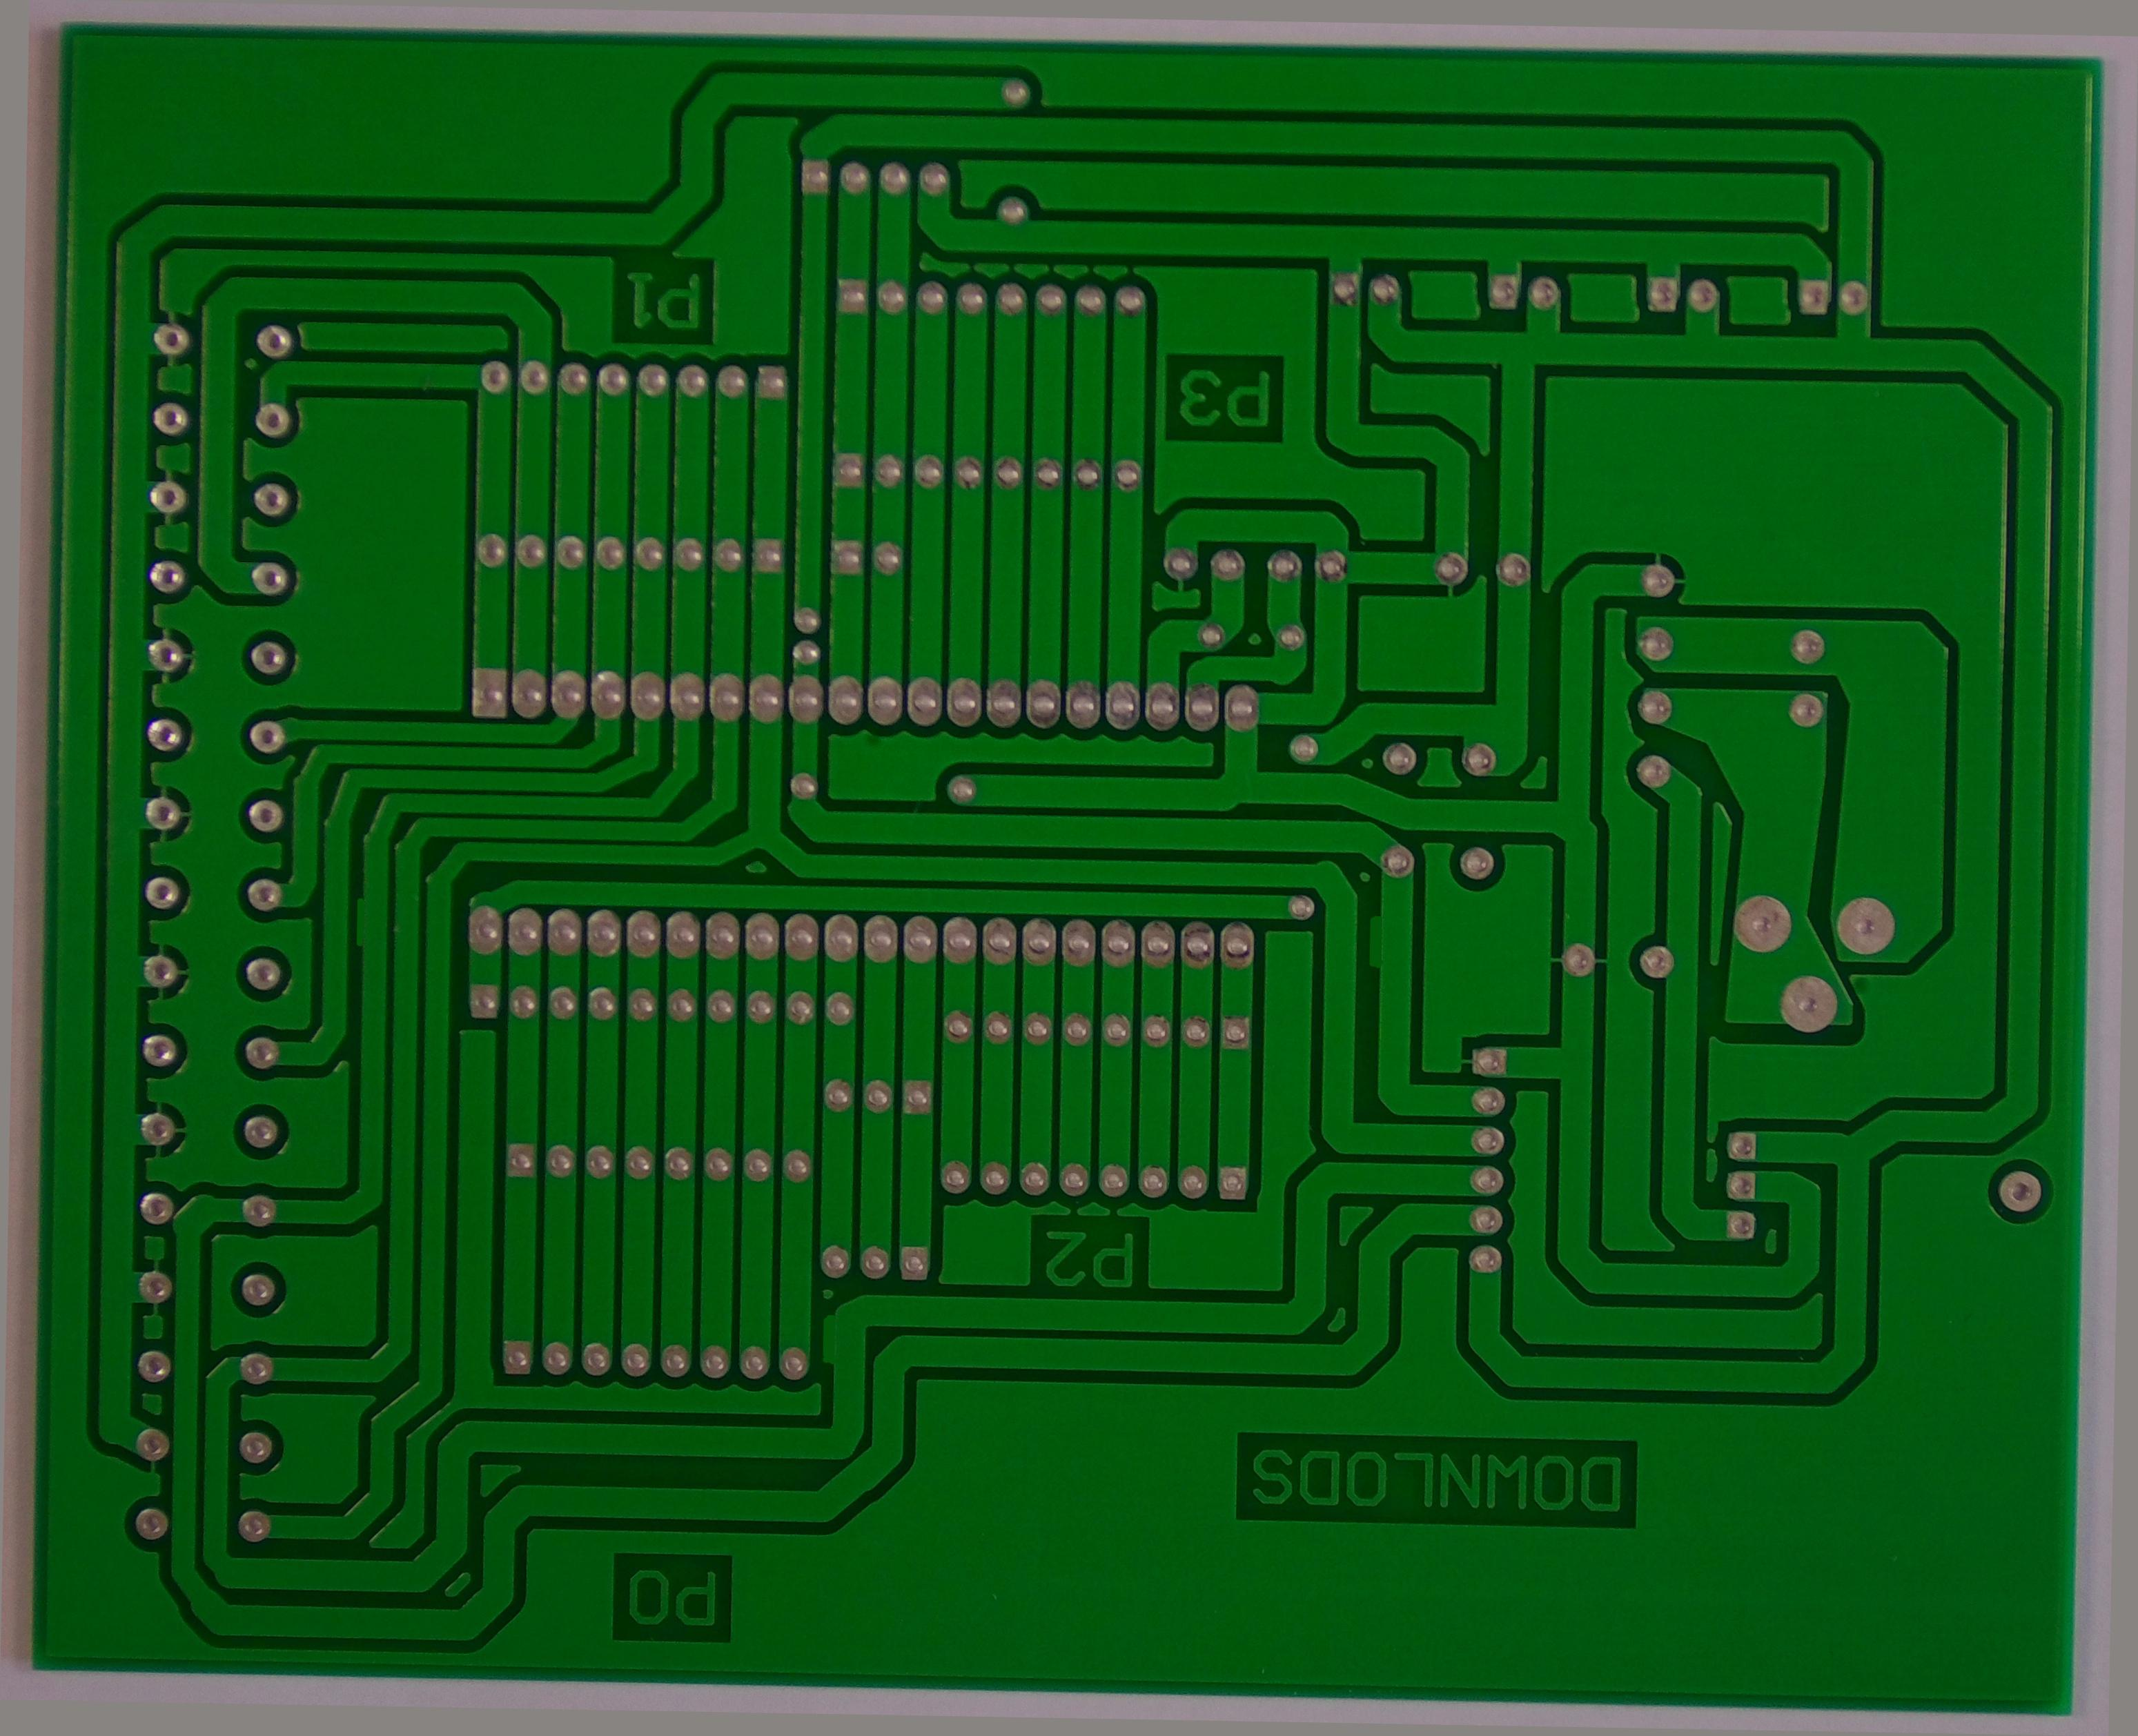spur: (813, 1306, 848, 1368), (1360, 900, 1390, 971), (351, 884, 379, 951)
